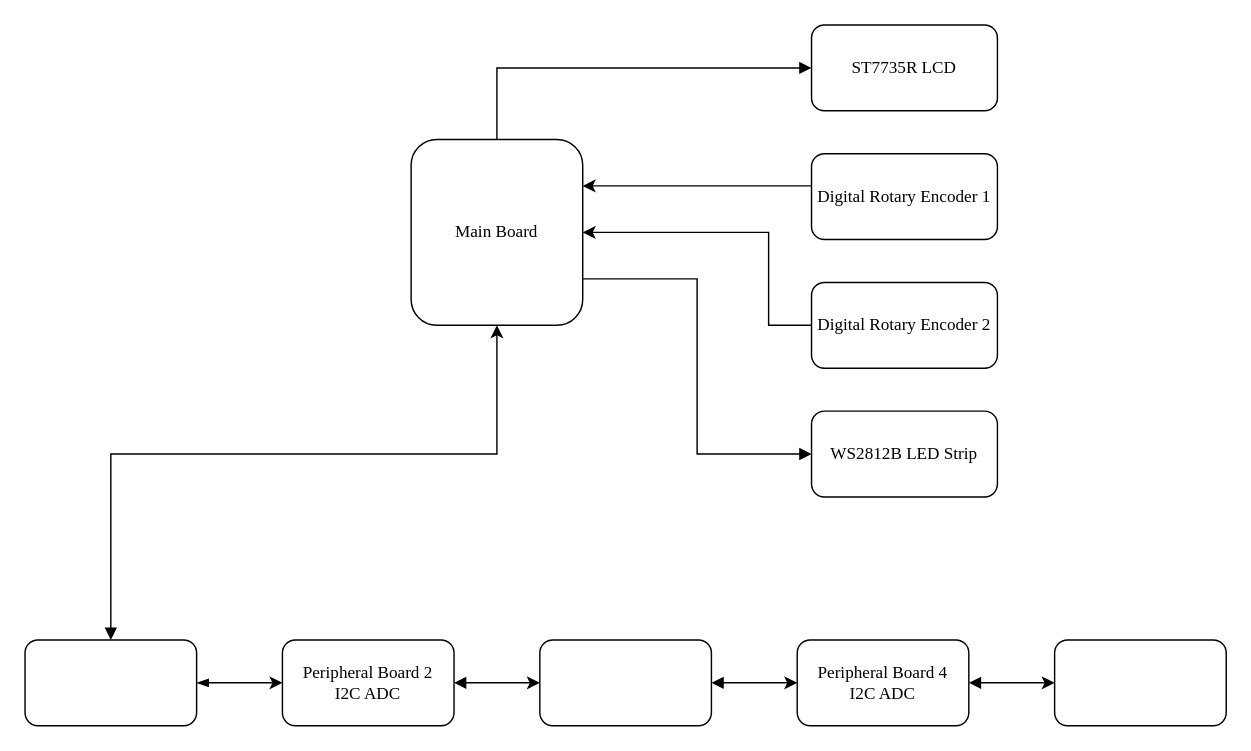
Image size: 1251x751. Some labels were removed from this diagram. The shapes that lost their labels are listed below. From the top down, each one's centre as x and y in pixels, then its label:
At point 110,682: "Peripheral Board 1 I2C ADC".
At point 624,682: "Peripheral Board 3 I2C ADC".
At point 1139,682: "Peripheral Board 5 I2C ADC".
